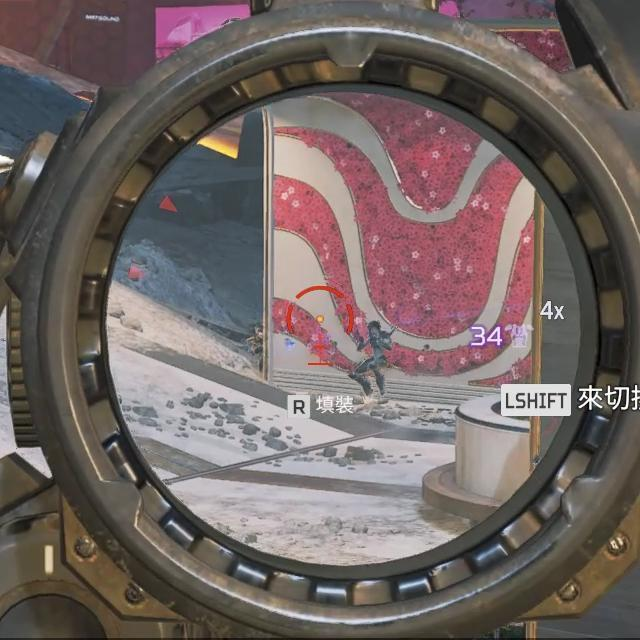avatar: (346, 319, 395, 399)
